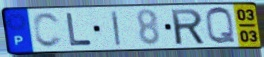8: (135, 8, 162, 48)
C: (31, 11, 64, 50)
I: (109, 10, 122, 48)
L: (65, 11, 94, 48)
Q: (204, 5, 239, 46)
R: (169, 7, 207, 47)
